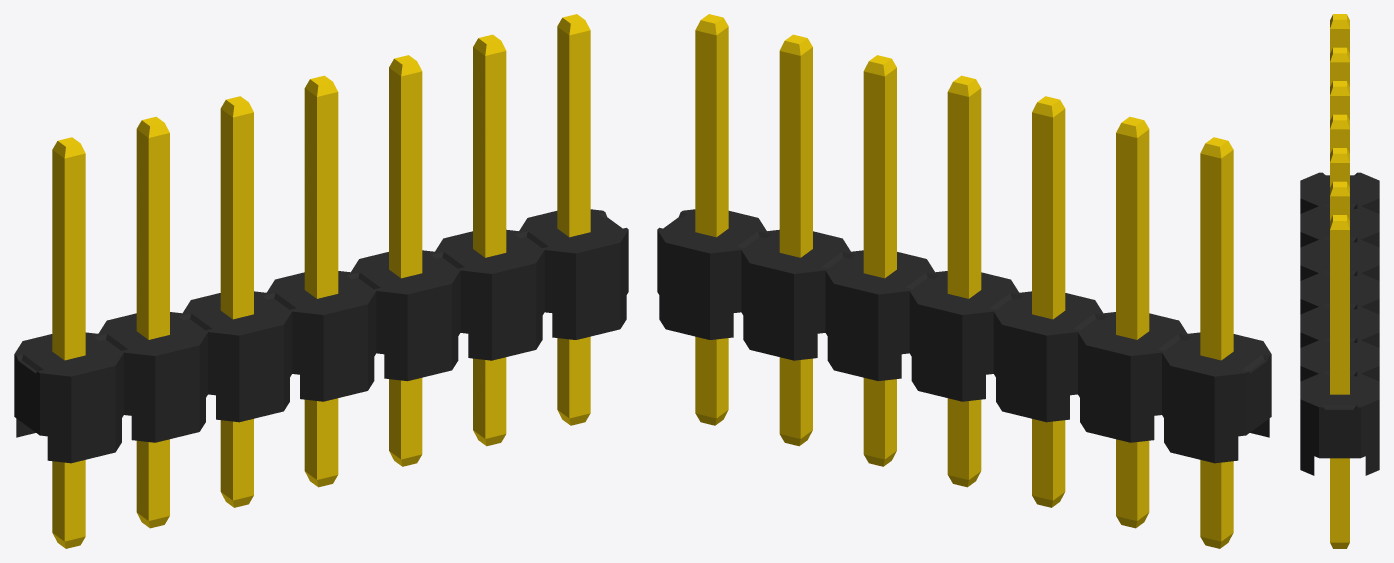
File: PLS7.glb
The picture shows the model from 3 angles, left to right: view 1: azimuth 30°, elevation 25°; view 2: azimuth 150°, elevation 25°; view 3: azimuth 270°, elevation 25°; orthographic projection. The views are drawn at different scales.
Parts seen in each view (by area): view 1: PLS (DS1021 CONNFLY); view 2: PLS (DS1021 CONNFLY); view 3: PLS (DS1021 CONNFLY).
Boxes of the visible parts, x1=… form: PLS (DS1021 CONNFLY): x1=14, y1=14, x2=628, y2=548; PLS (DS1021 CONNFLY): x1=657, y1=14, x2=1271, y2=548; PLS (DS1021 CONNFLY): x1=1300, y1=14, x2=1379, y2=548.
Size of the model in its own units: 0.0178 by 0.0116 by 0.00254.
